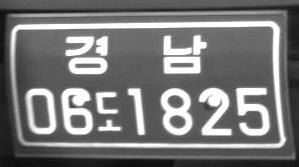0: (24, 86, 57, 136)
1: (125, 86, 149, 135)
2: (197, 86, 233, 138)
5: (235, 86, 270, 136)
6: (59, 86, 93, 136)
8: (160, 86, 193, 136)
경남_D: (64, 33, 208, 75)
도: (94, 90, 122, 132)
